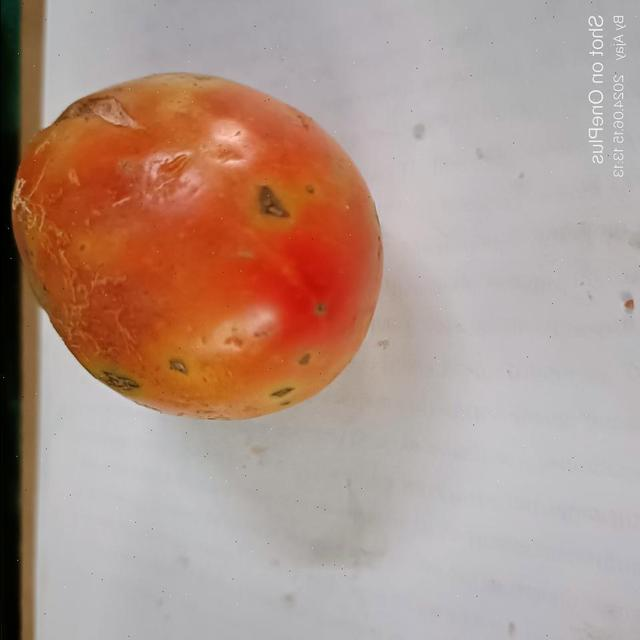Bacterial Spot Fruit: (16, 14, 180, 255)
